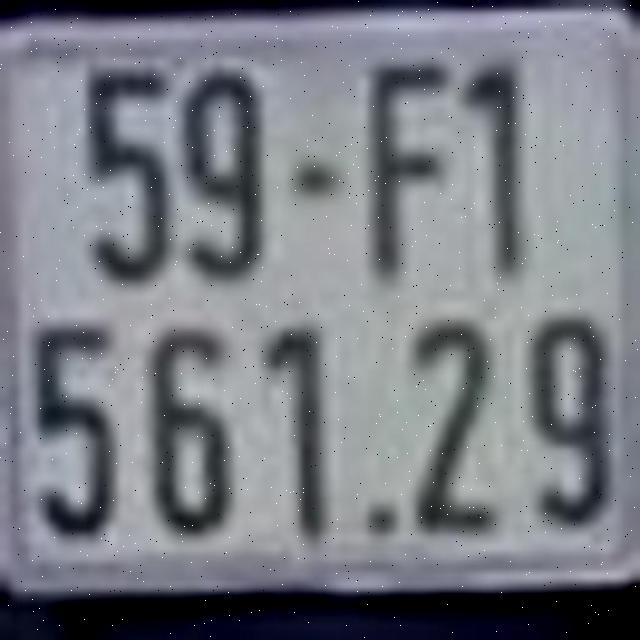1: (264, 321, 333, 540), (464, 54, 530, 278)
2: (410, 313, 500, 535)
5: (29, 318, 121, 539), (81, 63, 173, 284)
6: (148, 324, 234, 534)
9: (180, 62, 268, 283), (527, 307, 614, 528)
F: (364, 56, 453, 279)
